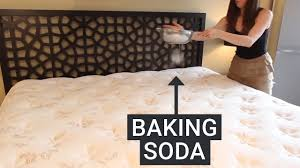bed-matress: (1, 66, 300, 168)
